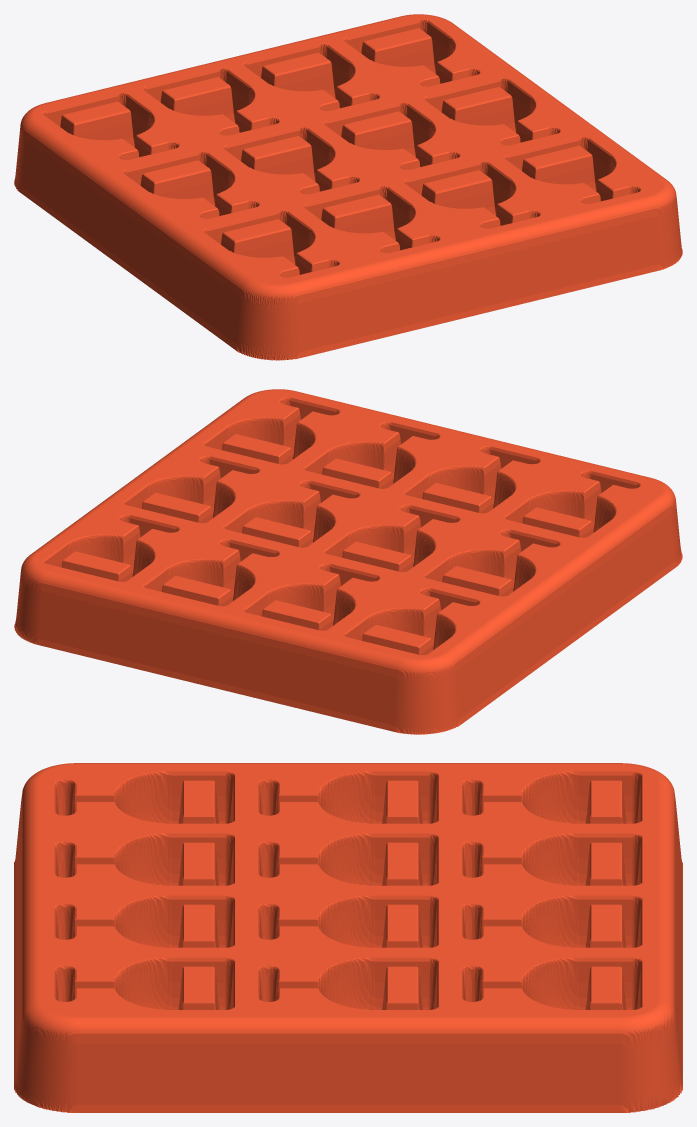
The model's file is mold.glb.
3 views of the same model, one above another, from view 1: azimuth 30°, elevation 25°; view 2: azimuth 150°, elevation 25°; view 3: azimuth 270°, elevation 25° (orthographic). The views are drawn at different scales.
Parts seen in each view (by area): view 1: geometry_0; view 2: geometry_0; view 3: geometry_0.
Part boxes in pixels (x1=…): geometry_0: x1=14, y1=14, x2=682, y2=360; geometry_0: x1=14, y1=389, x2=682, y2=734; geometry_0: x1=14, y1=763, x2=682, y2=1112.
Bounding box in the file's own units: 0.093 × 0.0136 × 0.0963.
